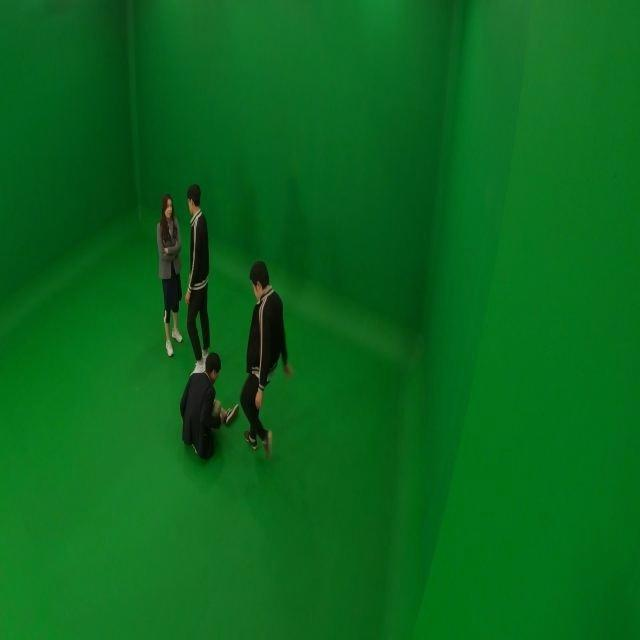fight: (177, 260, 294, 460)
non-fight: (180, 183, 213, 366), (155, 189, 185, 360)
